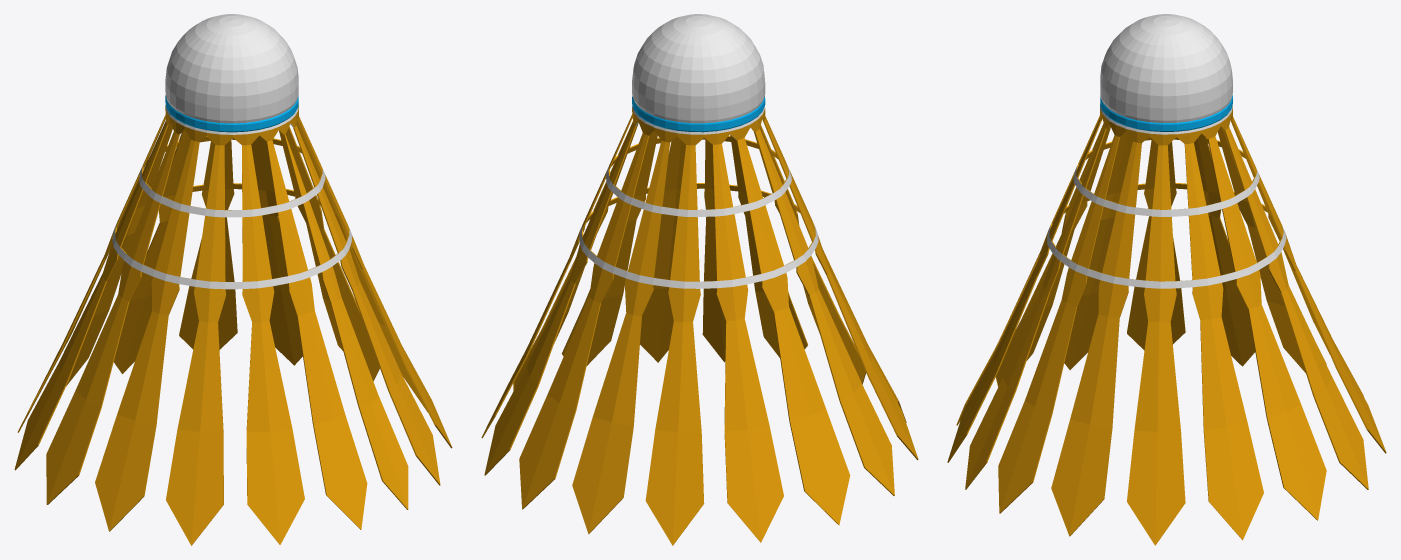
Rendered from birdie.fbx.
3 views of the same model, side by side, from view 1: azimuth 30°, elevation 25°; view 2: azimuth 150°, elevation 25°; view 3: azimuth 270°, elevation 25° (orthographic).
Visible parts, largest first — view 1: Sphere; view 2: Sphere; view 3: Sphere.
Part boxes in pixels (<box>): Sphere: <box>14,14,452,545</box>; Sphere: <box>481,14,918,545</box>; Sphere: <box>947,14,1386,545</box>.
Bounding box in the file's own units: 660 × 718 × 660.
